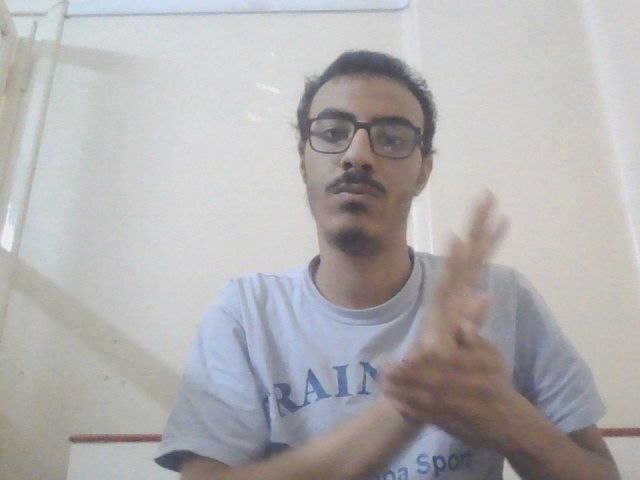Movie: (379, 186, 529, 446)
